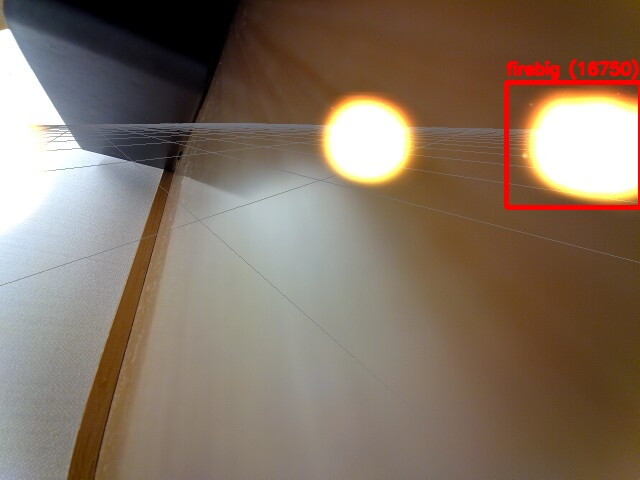firebig: (506, 82, 640, 207)
